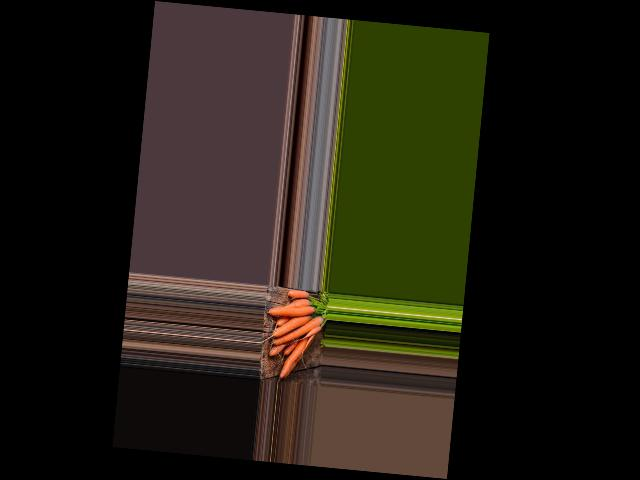carrot: (277, 335, 307, 378)
